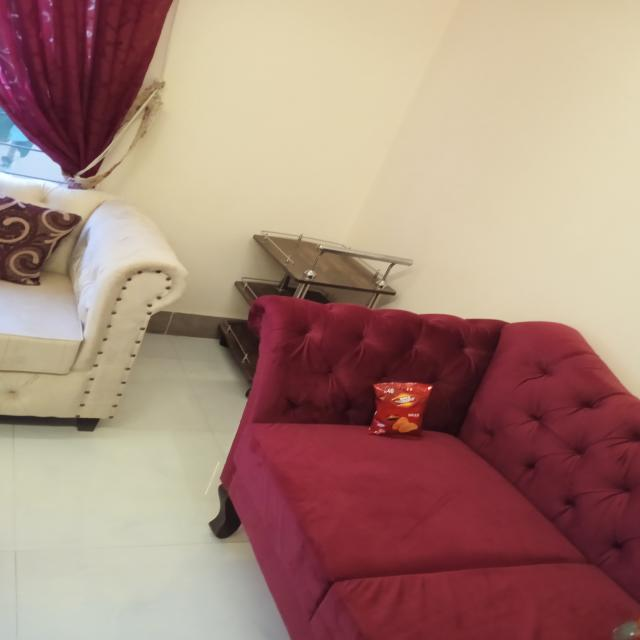Plastic: (363, 376, 437, 438)
